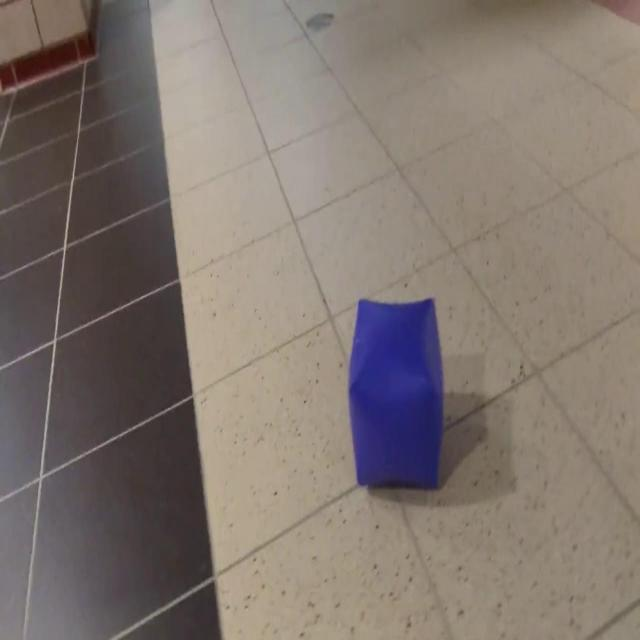frc_cube: (348, 295, 446, 492)
